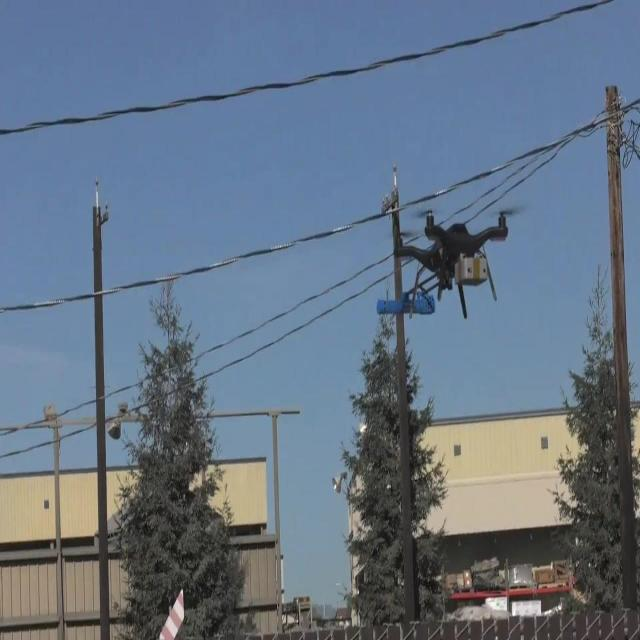UAV: (376, 210, 520, 319)
